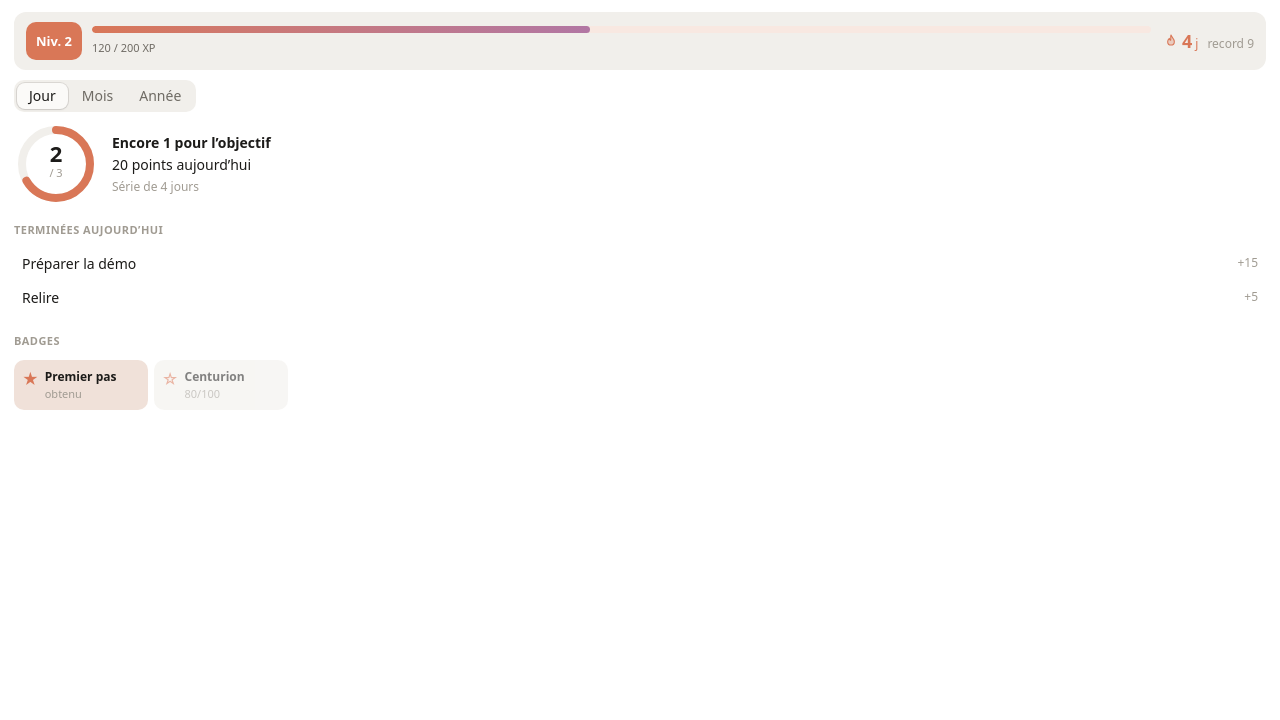
Test: ProgressView › month: calendar, comparison, team without ranking, navigation to the previous month
Later steps or results of the test are not shown.
Click the button "Mois": x=97, y=96 left=70, top=83, right=125, bottom=109
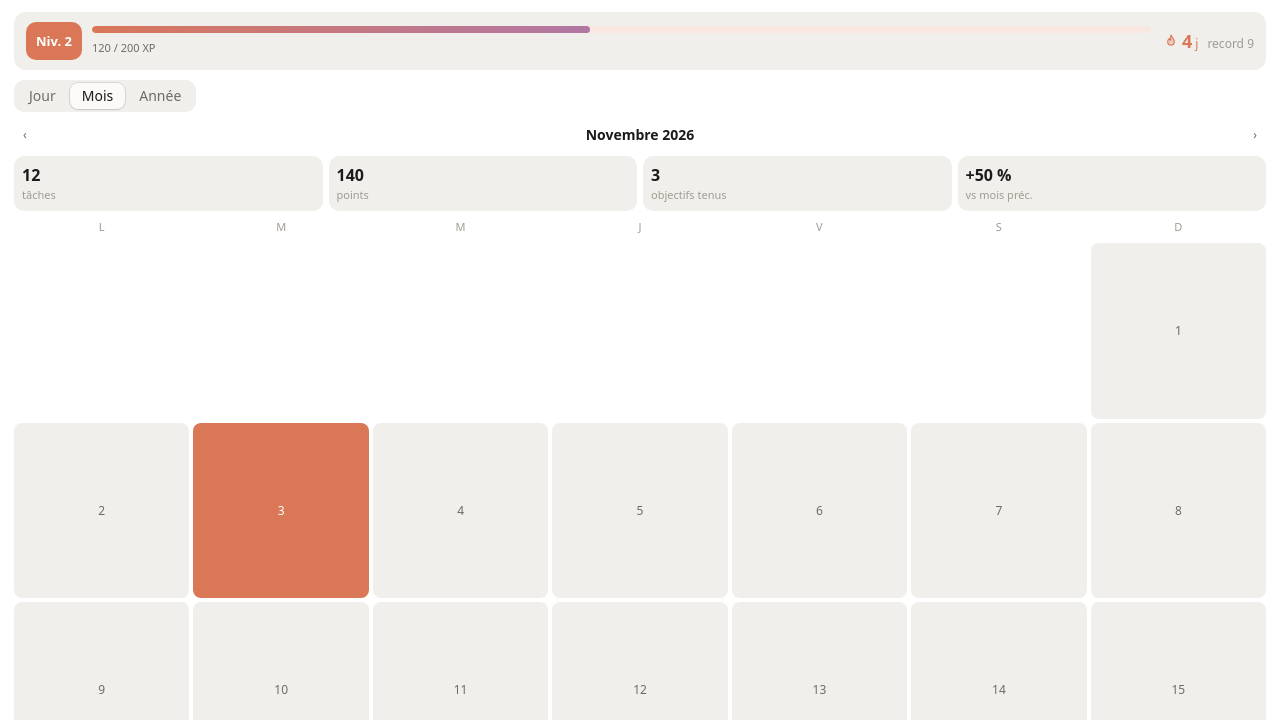
Expected: the button named "Mois suivant" is disabled, left=1244, top=122, right=1266, bottom=148
Result: the text "novembre 2026" is shown at left=586, top=125, right=694, bottom=145
Result: the text "+50 %" is shown at left=966, top=164, right=1012, bottom=186
